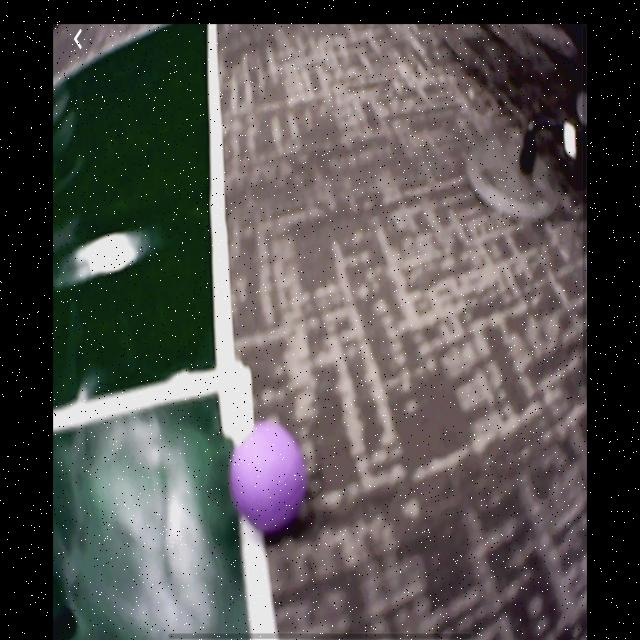ball: (229, 419, 310, 536)
